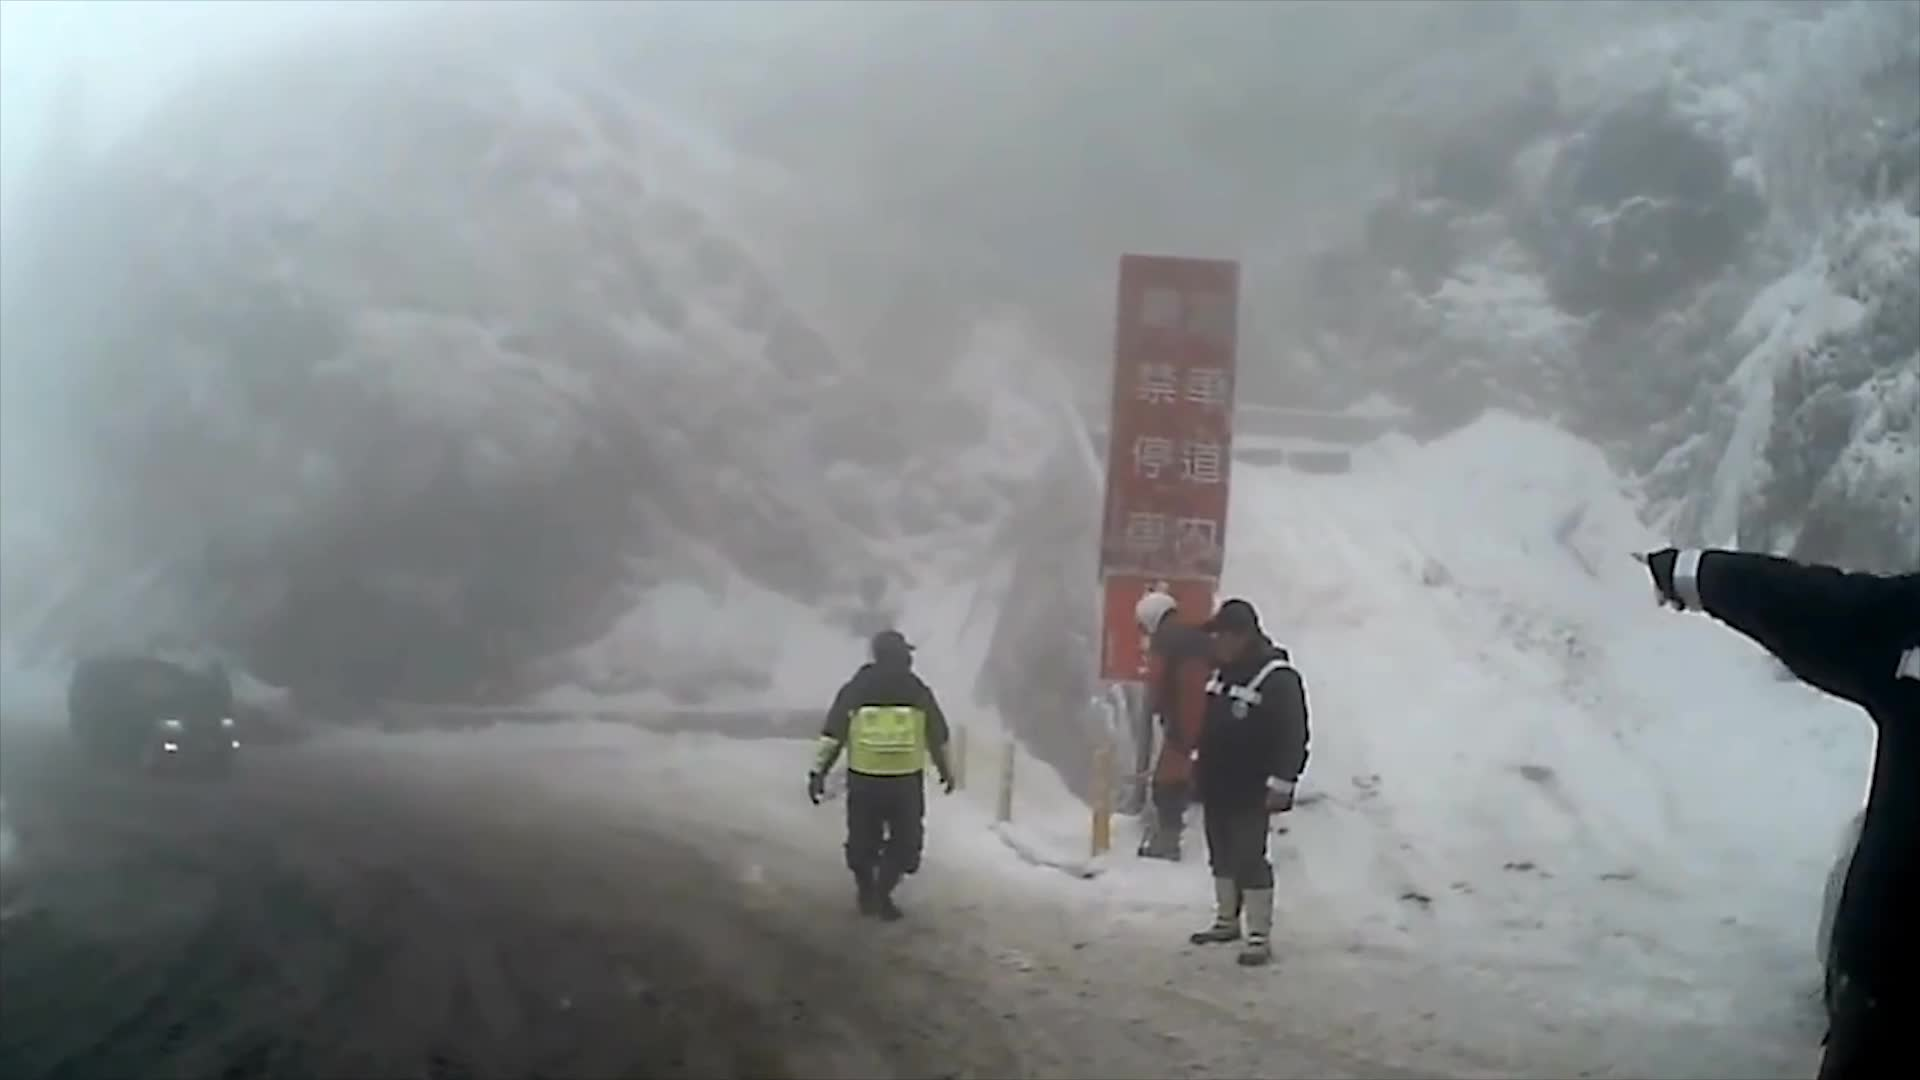pedestrian: (1575, 416, 1919, 1076), (1196, 597, 1315, 975), (810, 627, 956, 919)
vehicle: (67, 648, 241, 776)
